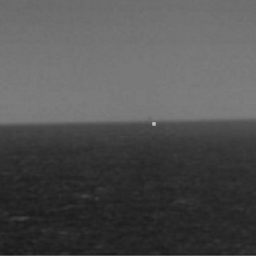Target: (150, 120, 157, 127)
